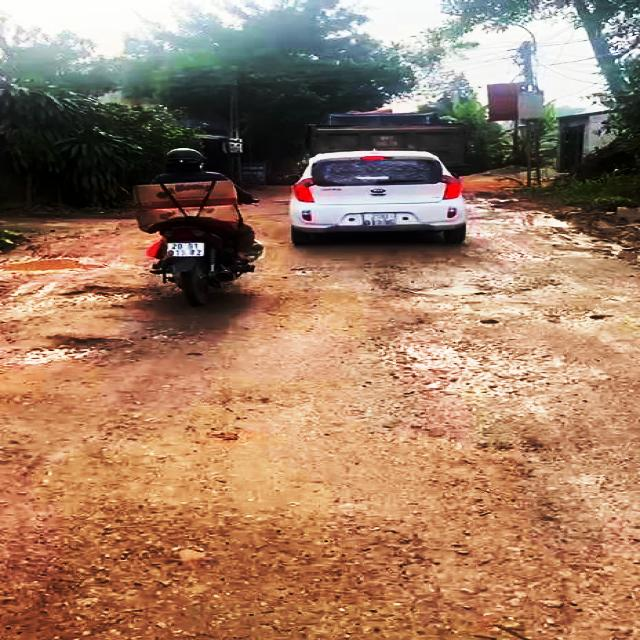pothole: (378, 314, 604, 400), (366, 268, 560, 299), (1, 337, 130, 368), (57, 286, 171, 306)
